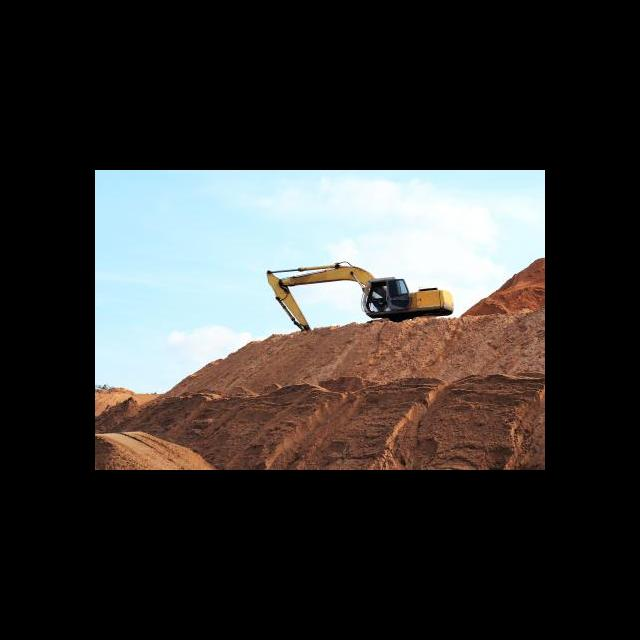Excavator: (267, 260, 454, 332)
